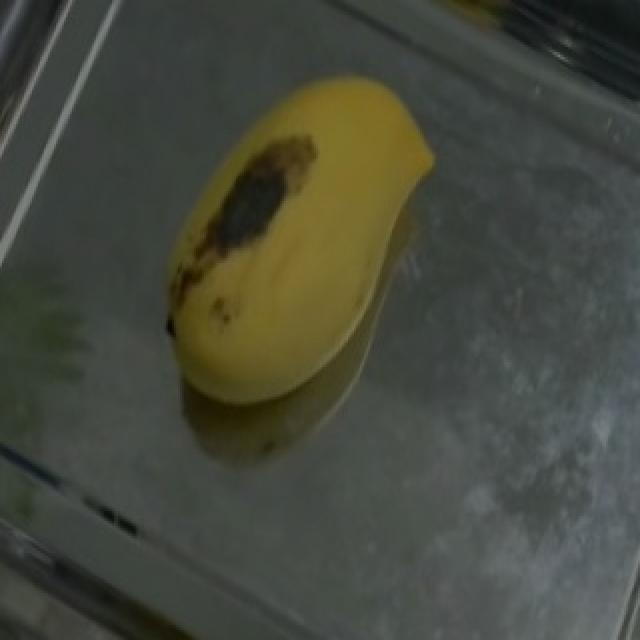fruit: (170, 17, 484, 382)
